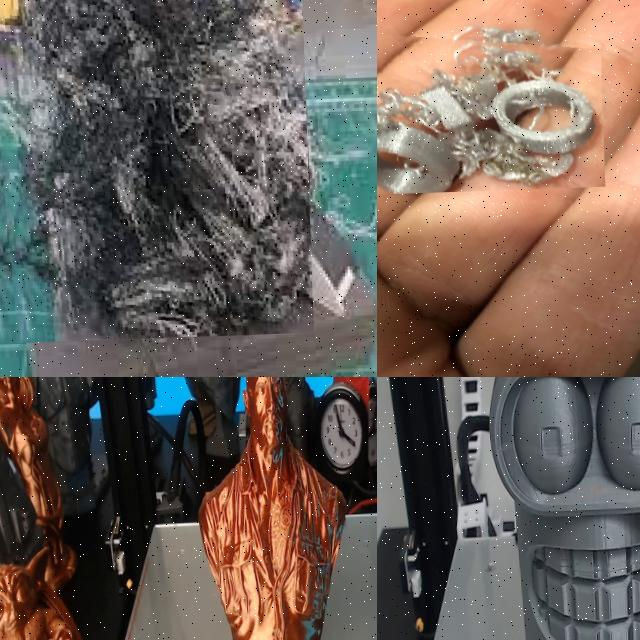spaghetti: (9, 0, 312, 339), (377, 19, 604, 196)
